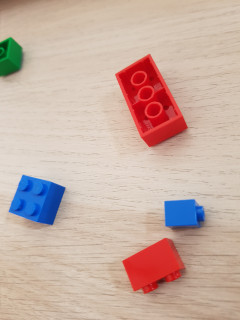1x1 blue: (162, 200, 209, 229)
1x2 red: (119, 237, 189, 293)
2x2 blue: (8, 176, 65, 226)
2x4 red: (113, 53, 188, 148)
